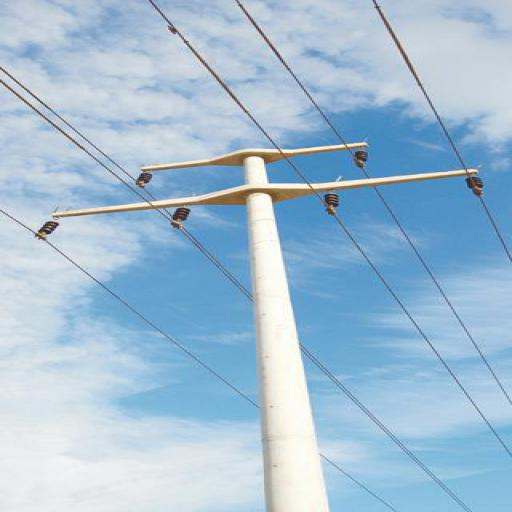wt_6: (48, 140, 488, 511)
